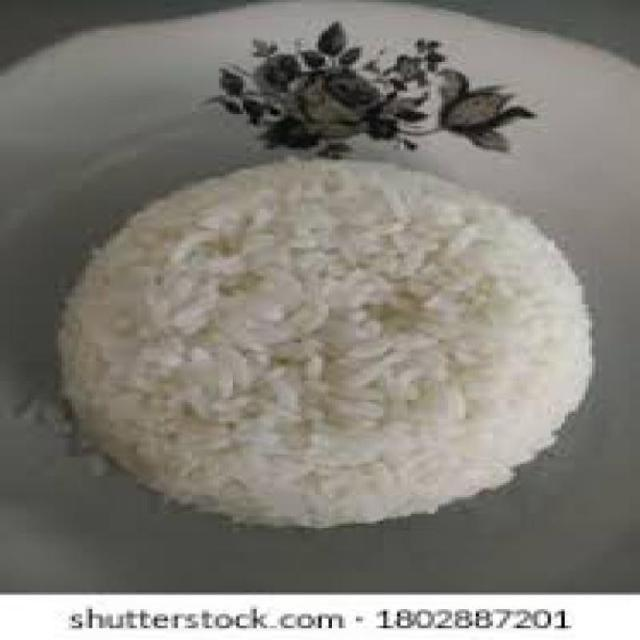nasi_putih: (55, 156, 596, 532)
